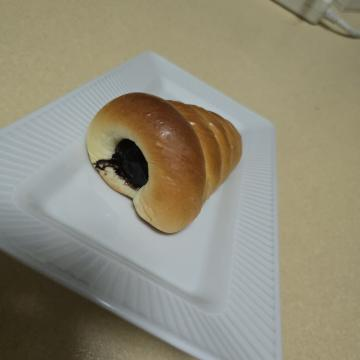cream horn: (83, 107, 249, 284)
